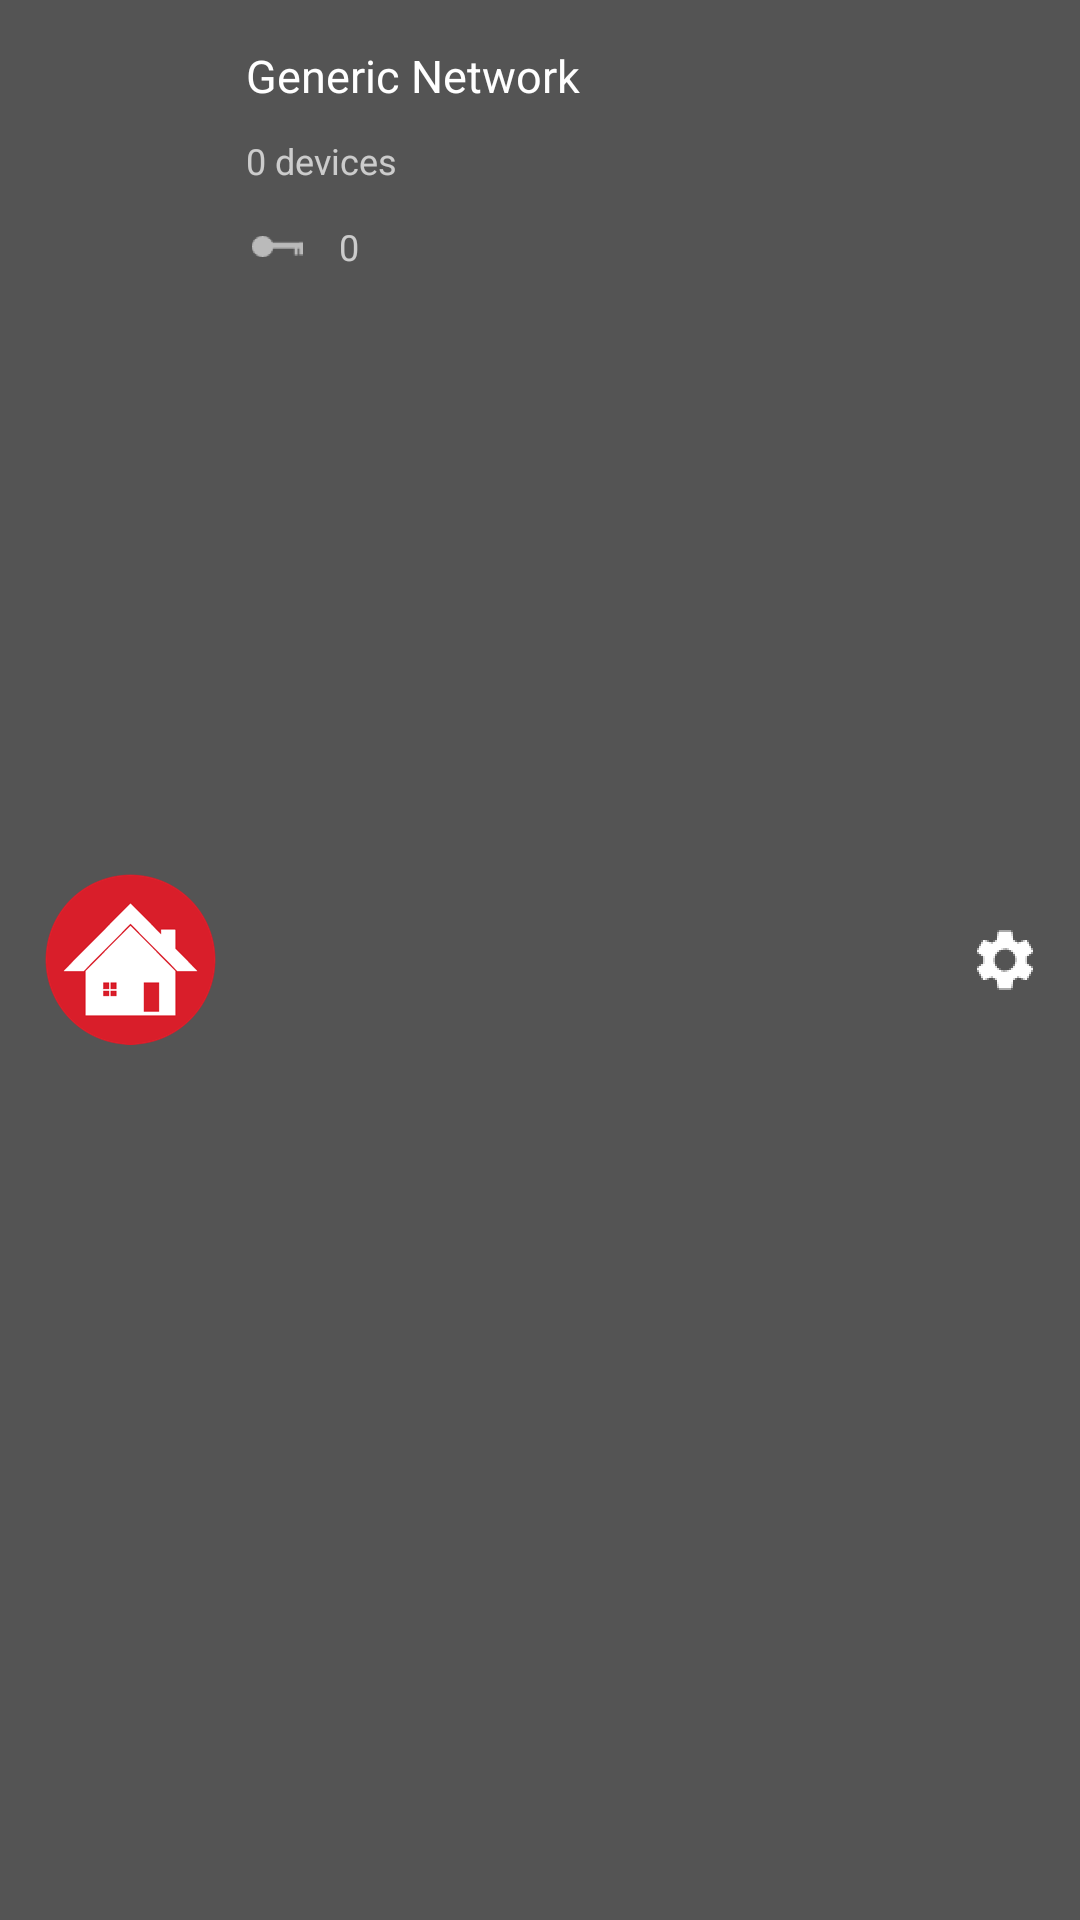

Icons on this 1080 x 1920 Android screen, each with the point to tap as (x=x, y=y):
home: (x=130, y=959)
key: (x=277, y=246)
settings: (x=1005, y=960)
